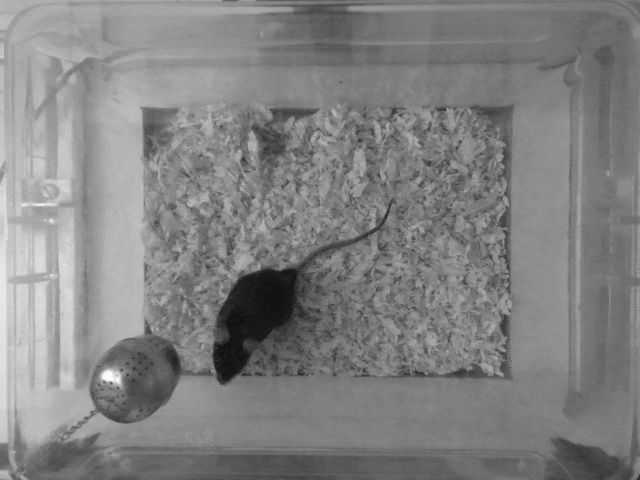mice: (209, 195, 395, 387)
